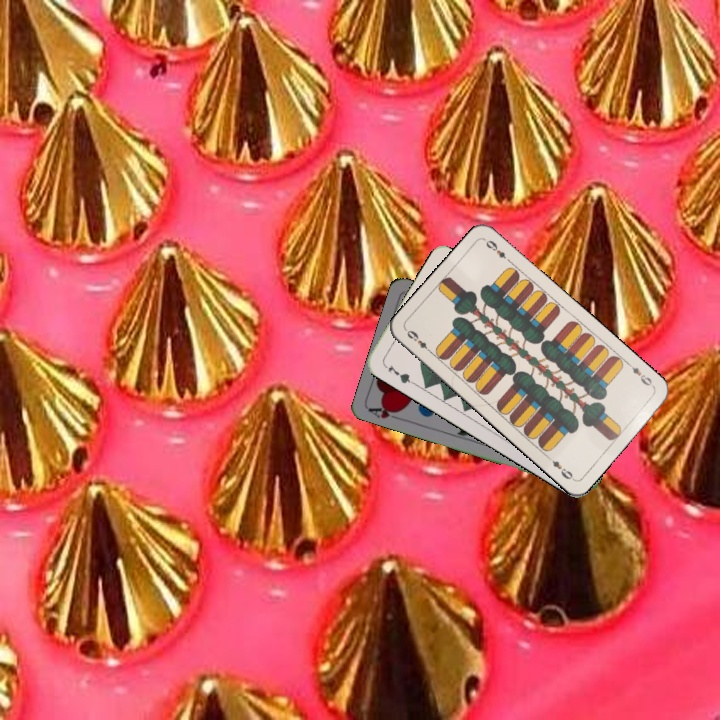E9: (624, 359, 657, 391), (402, 326, 435, 357)
G7: (380, 360, 416, 386)
HA: (365, 401, 405, 423)
